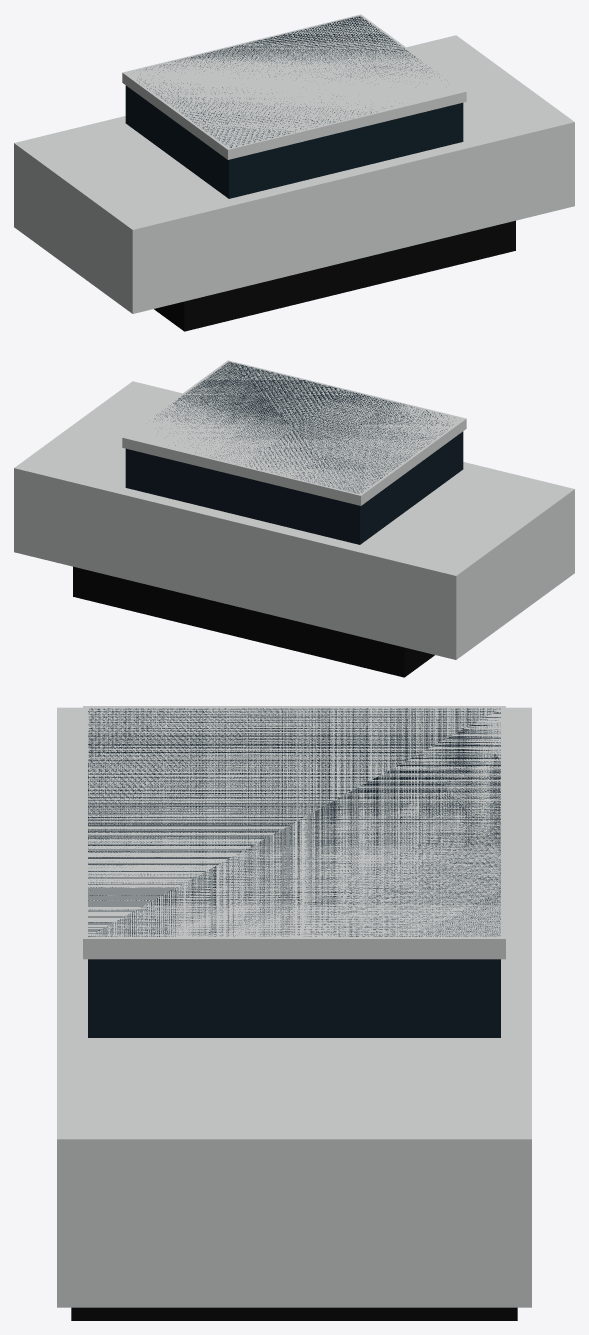
Rendered from patrol_car.lod2.obj.
3 views of the same model, one above another, from view 1: azimuth 30°, elevation 25°; view 2: azimuth 150°, elevation 25°; view 3: azimuth 270°, elevation 25° (orthographic). The views are drawn at different scales.
Visible parts, largest first — view 1: patrol_car; view 2: patrol_car; view 3: patrol_car.
Part boxes in pixels (bbox=[...]): patrol_car: bbox=[14, 14, 574, 331]; patrol_car: bbox=[14, 360, 574, 677]; patrol_car: bbox=[57, 706, 531, 1320].
Size of the model in its own units: 4.62 by 1.68 by 2.15.
